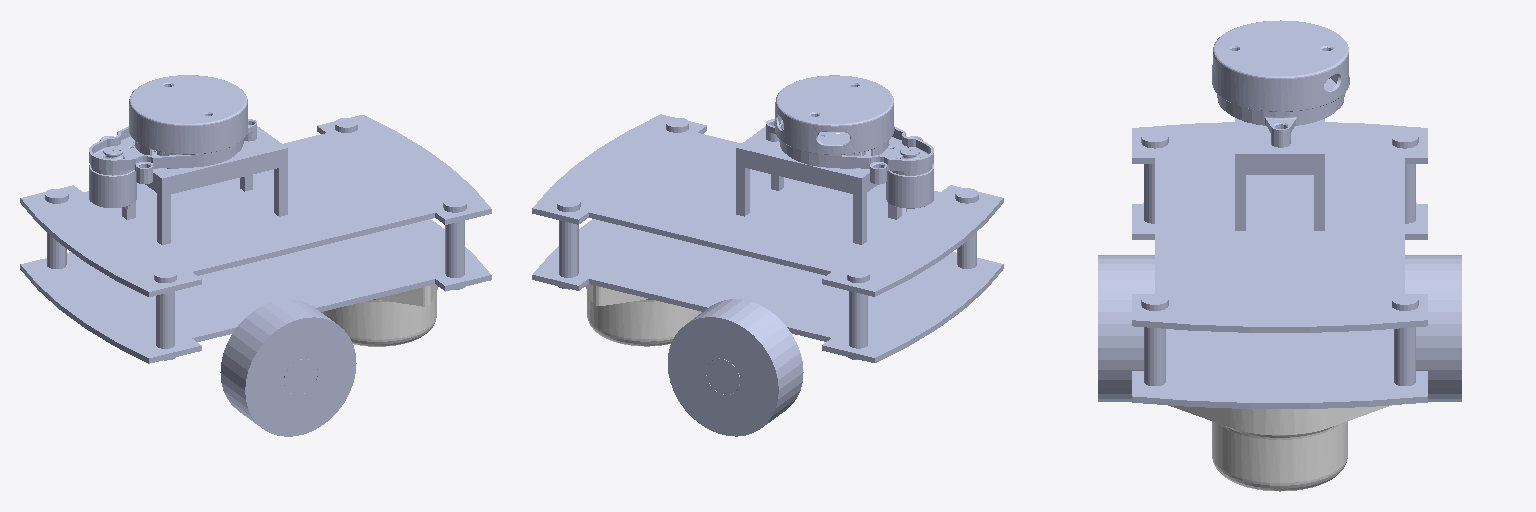
URDF robot description (ydpibot_description):
<?xml version="1.0" encoding="utf-8"?>
<!-- This URDF was automatically created by SolidWorks to URDF Exporter! Originally created by [author] ([email redacted]) 
     Commit Version: 1.6.0-4-g7f85cfe  Build Version: 1.6.7995.38578
     For more information, please see http://wiki.ros.org/sw_urdf_exporter -->
<robot
  name="ydpibot_description">
  <link
    name="base_link">
    <inertial>
      <origin
        xyz="-0.0093884 -5.5511E-17 0.047189"
        rpy="0 0 0" />
      <mass
        value="0.11353" />
      <inertia
        ixx="0"
        ixy="0"
        ixz="0"
        iyy="0"
        iyz="0"
        izz="0" />
    </inertial>
    <visual>
      <origin
        xyz="0 0 0"
        rpy="0 0 0" />
      <geometry>
        <mesh
          filename="package://ydpibot_description/meshes/base_link.STL" />
      </geometry>
      <material
        name="">
        <color
          rgba="0.79216 0.81961 0.93333 1" />
      </material>
    </visual>
    <collision>
      <origin
        xyz="0 0 0"
        rpy="0 0 0" />
      <geometry>
        <mesh
          filename="package://ydpibot_description/meshes/base_link.STL" />
      </geometry>
    </collision>
  </link>
  <link
    name="Upper_base">
    <inertial>
      <origin
        xyz="-0.00023228 -5.5511E-17 0.0015"
        rpy="0 0 0" />
      <mass
        value="0.072243" />
      <inertia
        ixx="7.9419E-05"
        ixy="-2.5406E-19"
        ixz="1.9615E-20"
        iyy="0.00027821"
        iyz="3.6365E-21"
        izz="0.00035752" />
    </inertial>
    <visual>
      <origin
        xyz="0 0 0"
        rpy="0 0 0" />
      <geometry>
        <mesh
          filename="package://ydpibot_description/meshes/Upper_base.STL" />
      </geometry>
      <material
        name="">
        <color
          rgba="0.79216 0.81961 0.93333 1" />
      </material>
    </visual>
    <collision>
      <origin
        xyz="0 0 0"
        rpy="0 0 0" />
      <geometry>
        <mesh
          filename="package://ydpibot_description/meshes/Upper_base.STL" />
      </geometry>
    </collision>
  </link>
  <joint
    name="Upper_base"
    type="fixed">
    <origin
      xyz="-0.0019675 0 0.0895"
      rpy="0 0 0" />
    <parent
      link="base_link" />
    <child
      link="Upper_base" />
    <axis
      xyz="0 0 0" />
  </joint>
  <link
    name="spacer1">
    <inertial>
      <origin
        xyz="-5.5511E-17 -9.7145E-17 -0.017"
        rpy="0 0 0" />
      <mass
        value="0.0038202" />
      <inertia
        ixx="7.5881E-07"
        ixy="-1.672E-24"
        ixz="3.7903E-23"
        iyy="7.5881E-07"
        iyz="4.1639E-23"
        izz="5.1484E-08" />
    </inertial>
    <visual>
      <origin
        xyz="0 0 0"
        rpy="0 0 0" />
      <geometry>
        <mesh
          filename="package://ydpibot_description/meshes/spacer1.STL" />
      </geometry>
      <material
        name="">
        <color
          rgba="0.79216 0.81961 0.93333 1" />
      </material>
    </visual>
    <collision>
      <origin
        xyz="0 0 0"
        rpy="0 0 0" />
      <geometry>
        <mesh
          filename="package://ydpibot_description/meshes/spacer1.STL" />
      </geometry>
    </collision>
  </link>
  <joint
    name="spacer1_joint"
    type="continuous">
    <origin
      xyz="0.084615 0.055 0"
      rpy="0 0 0" />
    <parent
      link="Upper_base" />
    <child
      link="spacer1" />
    <axis
      xyz="0 0 1" />
  </joint>
  <link
    name="spacer2">
    <inertial>
      <origin
        xyz="-8.3267E-17 -8.3267E-17 -0.017"
        rpy="0 0 0" />
      <mass
        value="0.0038202" />
      <inertia
        ixx="7.5881E-07"
        ixy="-3.5E-24"
        ixz="3.2864E-21"
        iyy="7.5881E-07"
        iyz="3.2535E-23"
        izz="5.1484E-08" />
    </inertial>
    <visual>
      <origin
        xyz="0 0 0"
        rpy="0 0 0" />
      <geometry>
        <mesh
          filename="package://ydpibot_description/meshes/spacer2.STL" />
      </geometry>
      <material
        name="">
        <color
          rgba="0.79216 0.81961 0.93333 1" />
      </material>
    </visual>
    <collision>
      <origin
        xyz="0 0 0"
        rpy="0 0 0" />
      <geometry>
        <mesh
          filename="package://ydpibot_description/meshes/spacer2.STL" />
      </geometry>
    </collision>
  </link>
  <joint
    name="spacer2_joint"
    type="continuous">
    <origin
      xyz="0.084615 -0.055 0"
      rpy="0 0 0" />
    <parent
      link="Upper_base" />
    <child
      link="spacer2" />
    <axis
      xyz="0 0 1" />
  </joint>
  <link
    name="spacer3">
    <inertial>
      <origin
        xyz="-8.3267E-17 5.5511E-17 -0.017"
        rpy="0 0 0" />
      <mass
        value="0.0038202" />
      <inertia
        ixx="7.5881E-07"
        ixy="-9.9272E-25"
        ixz="3.3078E-21"
        iyy="7.5881E-07"
        iyz="1.6292E-26"
        izz="5.1484E-08" />
    </inertial>
    <visual>
      <origin
        xyz="0 0 0"
        rpy="0 0 0" />
      <geometry>
        <mesh
          filename="package://ydpibot_description/meshes/spacer3.STL" />
      </geometry>
      <material
        name="">
        <color
          rgba="0.79216 0.81961 0.93333 1" />
      </material>
    </visual>
    <collision>
      <origin
        xyz="0 0 0"
        rpy="0 0 0" />
      <geometry>
        <mesh
          filename="package://ydpibot_description/meshes/spacer3.STL" />
      </geometry>
    </collision>
  </link>
  <joint
    name="spacer3_joiint"
    type="continuous">
    <origin
      xyz="-0.084615 -0.055 0"
      rpy="0 0 0" />
    <parent
      link="Upper_base" />
    <child
      link="spacer3" />
    <axis
      xyz="0 0 1" />
  </joint>
  <link
    name="spacer4">
    <inertial>
      <origin
        xyz="-6.9389E-18 2.7756E-17 -0.017"
        rpy="0 0 0" />
      <mass
        value="0.0038202" />
      <inertia
        ixx="7.5881E-07"
        ixy="-1.1602E-24"
        ixz="3.3017E-21"
        iyy="7.5881E-07"
        iyz="3.9363E-23"
        izz="5.1484E-08" />
    </inertial>
    <visual>
      <origin
        xyz="0 0 0"
        rpy="0 0 0" />
      <geometry>
        <mesh
          filename="package://ydpibot_description/meshes/spacer4.STL" />
      </geometry>
      <material
        name="">
        <color
          rgba="0.79216 0.81961 0.93333 1" />
      </material>
    </visual>
    <collision>
      <origin
        xyz="0 0 0"
        rpy="0 0 0" />
      <geometry>
        <mesh
          filename="package://ydpibot_description/meshes/spacer4.STL" />
      </geometry>
    </collision>
  </link>
  <joint
    name="spacer4_joint"
    type="continuous">
    <origin
      xyz="-0.084615 0.055 0"
      rpy="0 0 0" />
    <parent
      link="Upper_base" />
    <child
      link="spacer4" />
    <axis
      xyz="0 0 1" />
  </joint>
  <link
    name="base_scan">
    <inertial>
      <origin
        xyz="0.010012 8.6042E-16 -0.015783"
        rpy="0 0 0" />
      <mass
        value="0.032124" />
      <inertia
        ixx="6.0421E-06"
        ixy="-8.5897E-20"
        ixz="-2.1233E-19"
        iyy="1.7716E-05"
        iyz="3.48E-20"
        izz="2.1195E-05" />
    </inertial>
    <visual>
      <origin
        xyz="0 0 0"
        rpy="0 0 0" />
      <geometry>
        <mesh
          filename="package://ydpibot_description/meshes/base_scan.STL" />
      </geometry>
      <material
        name="">
        <color
          rgba="0.79216 0.81961 0.93333 1" />
      </material>
    </visual>
    <collision>
      <origin
        xyz="0 0 0"
        rpy="0 0 0" />
      <geometry>
        <mesh
          filename="package://ydpibot_description/meshes/base_scan.STL" />
      </geometry>
    </collision>
  </link>
  <gazebo reference="base_scan">
        <material>Gazebo/Blue</material>

        <sensor name="laser" type="ray">
            <pose> 0 0 0 0 0 0 </pose>
            <visualize>false</visualize>
            <update_rate>10</update_rate>
            <ray>
                <scan>
                    <horizontal>
                        <samples>360</samples>
                        <min_angle>-3.14</min_angle>
                        <max_angle>3.14</max_angle>
                    </horizontal>
                </scan>
                <range>
                    <min>0.3</min>
                    <max>12</max>
                </range>
            </ray>
            <plugin name="laser_controller" filename="libgazebo_ros_laser.so">
                <topicName>scan</topicName>
                <output_type>sensor_msgs/LaserScan</output_type>
                <frame_name>base_scan</frame_name>
            </plugin>
        </sensor>
    </gazebo>
  <joint
    name="base_scan_joint"
    type="fixed">
    <origin
      xyz="-0.039725 0 0.04948"
      rpy="0 0 0" />
    <parent
      link="Upper_base" />
    <child
      link="base_scan" />
    <axis
      xyz="0 0 -1" />
  </joint>
  <link
    name="right_wheel">
    <inertial>
      <origin
        xyz="-4.5103E-16 -0.0125 5.0654E-16"
        rpy="0 0 0" />
      <mass
        value="0.075104" />
      <inertia
        ixx="2.5621E-05"
        ixy="-4.0701E-39"
        ixz="-2.9995E-39"
        iyy="4.3419E-05"
        iyz="7.1293E-38"
        izz="2.5621E-05" />
    </inertial>
    <visual>
      <origin
        xyz="0 0 0"
        rpy="0 0 0" />
      <geometry>
        <mesh
          filename="package://ydpibot_description/meshes/right_wheel.STL" />
      </geometry>
      <material
        name="">
        <color
          rgba="0.79216 0.81961 0.93333 1" />
      </material>
    </visual>
    <collision>
      <origin
        xyz="0 0 0"
        rpy="0 0 0" />
      <geometry>
        <mesh
          filename="package://ydpibot_description/meshes/right_wheel.STL" />
      </geometry>
    </collision>
  </link>
  <joint
    name="right_wheel_joint"
    type="continuous">
    <origin
      xyz="-0.021967 -0.055 0.0325"
      rpy="0 0 0" />
    <parent
      link="base_link" />
    <child
      link="right_wheel" />
    <axis
      xyz="0 1 0" />
  </joint>
  <transmission name="right_wheel_transmission">
    <type>transmission_interface/SimpleTransmission</type>
    <joint name="right_wheel_joint">
      <hardwareInterface>hardware_interface/VelocityJointInterface</hardwareInterface>  
    </joint>
    <actuator name="right_wheel_actuator">
      <mechanicalReduction>7</mechanicalReduction>
      <hardwareInterface>VelocityJointInterface</hardwareInterface>
    </actuator>
  </transmission>
  <link
    name="left_wheel">
    <inertial>
      <origin
        xyz="-4.7184E-16 -0.0125 4.7184E-16"
        rpy="0 0 0" />
      <mass
        value="0.075104" />
      <inertia
        ixx="2.5621E-05"
        ixy="-3.0526E-38"
        ixz="-2.9995E-39"
        iyy="4.3419E-05"
        iyz="7.1293E-38"
        izz="2.5621E-05" />
    </inertial>
    <visual>
      <origin
        xyz="0 0 0"
        rpy="0 0 0" />
      <geometry>
        <mesh
          filename="package://ydpibot_description/meshes/left_wheel.STL" />
      </geometry>
      <material
        name="">
        <color
          rgba="0.79216 0.81961 0.93333 1" />
      </material>
    </visual>
    <collision>
      <origin
        xyz="0 0 0"
        rpy="0 0 0" />
      <geometry>
        <mesh
          filename="package://ydpibot_description/meshes/left_wheel.STL" />
      </geometry>
    </collision>
  </link>
  <joint
    name="left_wheel_joint"
    type="continuous">
    <origin
      xyz="-0.021967 0.08 0.0325"
      rpy="0 0 0" />
    <parent
      link="base_link" />
    <child
      link="left_wheel" />
    <axis
      xyz="0 1 0" />
  </joint>
  <transmission name="left_wheel_transmission">
    <type>transmission_interface/SimpleTransmission</type>
    <joint name="left_wheel_joint">
      <hardwareInterface>VelocityJointInterface</hardwareInterface>  
    </joint>
    <actuator name="left_wheel_actuator">
      <mechanicalReduction>7</mechanicalReduction>
      <hardwareInterface>VelocityJointInterface</hardwareInterface>
    </actuator>
  </transmission>
  <link
    name="caster_wheel_">
    <inertial>
      <origin
        xyz="-1.2363E-08 -1.1975E-08 -0.00077934"
        rpy="0 0 0" />
      <mass
        value="0.12787" />
      <inertia
        ixx="6.5207E-05"
        ixy="3.8139E-11"
        ixz="9.5649E-11"
        iyy="5.3836E-05"
        iyz="1.4958E-11"
        izz="7.8435E-05" />
    </inertial>
    <visual>
      <origin
        xyz="0 0 0"
        rpy="0 0 0" />
      <geometry>
        <mesh
          filename="package://ydpibot_description/meshes/caster_wheel_.STL" />
      </geometry>
      <material
        name="">
        <color
          rgba="0.95686 0.95686 0.96078 1" />
      </material>
    </visual>
    <collision>
      <origin
        xyz="0 0 0"
        rpy="0 0 0" />
      <geometry>
        <mesh
          filename="package://ydpibot_description/meshes/caster_wheel_.STL" />
      </geometry>
    </collision>
  </link>
  <joint
    name="caster_wheel__joint"
    type="fixed">
    <origin
      xyz="0.069075 0 0.033565"
      rpy="-3.1416 0 0" />
    <parent
      link="base_link" />
    <child
      link="caster_wheel_" />
    <axis
      xyz="0 0 -1" />
  </joint>
  <link
    name="IMU">
    <inertial>
      <origin
        xyz="-0.00017852 -6.9389E-18 -0.0008"
        rpy="0 0 0" />
      <mass
        value="0.00046193" />
      <inertia
        ixx="1.532E-08"
        ixy="0"
        ixz="-8.1617E-26"
        iyy="8.647E-09"
        iyz="6.4947E-27"
        izz="2.377E-08" />
    </inertial>
    <visual>
      <origin
        xyz="0 0 0"
        rpy="0 0 0" />
      <geometry>
        <mesh
          filename="package://ydpibot_description/meshes/IMU.STL" />
      </geometry>
      <material
        name="">
        <color
          rgba="0 0.28235 0.85098 1" />
      </material>
    </visual>
    <collision>
      <origin
        xyz="0 0 0"
        rpy="0 0 0" />
      <geometry>
        <mesh
          filename="package://ydpibot_description/meshes/IMU.STL" />
      </geometry>
    </collision>
  </link>
  <joint
    name="IMU_joint"
    type="fixed">
    <origin
      xyz="0.000205 0 0.04234"
      rpy="1.5708 0 0" />
    <parent
      link="base_link" />
    <child
      link="IMU" />
    <axis
      xyz="0 0 -1" />
  </joint>
  <gazebo reference="IMU">
    <gravity>true</gravity>
    <sensor name="imu_sensor" type="imu">
      <always_on>true</always_on>
      <update_rate>100</update_rate>
      <visualize>true</visualize>
      <topic>__default_topic__</topic>
      <plugin filename="libgazebo_ros_imu_sensor.so" name="imu_plugin">
        <topicName>imu</topicName>
        <bodyName>imu_link</bodyName>
        <updateRateHZ>10.0</updateRateHZ>
        <gaussianNoise>0.0</gaussianNoise>
        <xyzOffset>0 0 0</xyzOffset>
        <rpyOffset>0 0 0</rpyOffset>
        <frameName>imu_link</frameName>
        <initialOrientationAsReference>false</initialOrientationAsReference>
      </plugin>
      <pose>0 0 0 0 0 0</pose>
    </sensor>
  </gazebo>

  <gazebo>
    <plugin name="gazebo_ros_control" filename="libgazebo_ros_control.so">
      <robotNamespace>/</robotNamespace>
    </plugin>
  </gazebo>

</robot>

--- Facts derived from the render (not from the file) ---
The picture shows the robot from 3 angles, left to right: view 1: azimuth 30°, elevation 25°; view 2: azimuth 150°, elevation 25°; view 3: azimuth 270°, elevation 25°; orthographic projection.
Model ydpibot_description with 11 links and 10 joints (6 continuous, 4 fixed), rooted at base_link, posed every joint at zero.
Links seen in each view (by area): view 1: Upper_base, base_link, base_scan, right_wheel, caster_wheel_, spacer2, spacer3, spacer4; view 2: Upper_base, base_link, base_scan, left_wheel, caster_wheel_, spacer1, spacer4, spacer3; view 3: Upper_base, base_link, base_scan, caster_wheel_, left_wheel, right_wheel, spacer2, spacer1, spacer3, spacer4.
Boxes of the visible links, left/top/right/bottom form: Upper_base: left=20, top=115, right=491, bottom=296; base_link: left=20, top=219, right=491, bottom=394; base_scan: left=89, top=75, right=287, bottom=244; right_wheel: left=220, top=299, right=356, bottom=436; caster_wheel_: left=321, top=284, right=437, bottom=346; spacer2: left=443, top=197, right=466, bottom=289; spacer3: left=154, top=268, right=176, bottom=360; spacer4: left=45, top=189, right=68, bottom=268; Upper_base: left=532, top=114, right=1003, bottom=296; base_link: left=532, top=219, right=1003, bottom=394; base_scan: left=736, top=75, right=933, bottom=244; left_wheel: left=668, top=299, right=803, bottom=436; caster_wheel_: left=585, top=284, right=701, bottom=346; spacer1: left=557, top=197, right=580, bottom=289; spacer4: left=847, top=268, right=869, bottom=359; spacer3: left=955, top=188, right=978, bottom=268; Upper_base: left=1132, top=122, right=1427, bottom=332; base_link: left=1132, top=203, right=1427, bottom=408; base_scan: left=1212, top=20, right=1349, bottom=230; caster_wheel_: left=1168, top=405, right=1391, bottom=491; left_wheel: left=1405, top=255, right=1461, bottom=401; right_wheel: left=1098, top=255, right=1154, bottom=401; spacer2: left=1141, top=293, right=1168, bottom=385; spacer1: left=1392, top=293, right=1418, bottom=385; spacer3: left=1141, top=131, right=1168, bottom=223; spacer4: left=1392, top=131, right=1418, bottom=223.
Bounding box of the posed robot: 0.2137 × 0.16 × 0.1593 m (x, y, z).
11 mesh visuals loaded from 11 distinct referenced files (11 binary STL).
